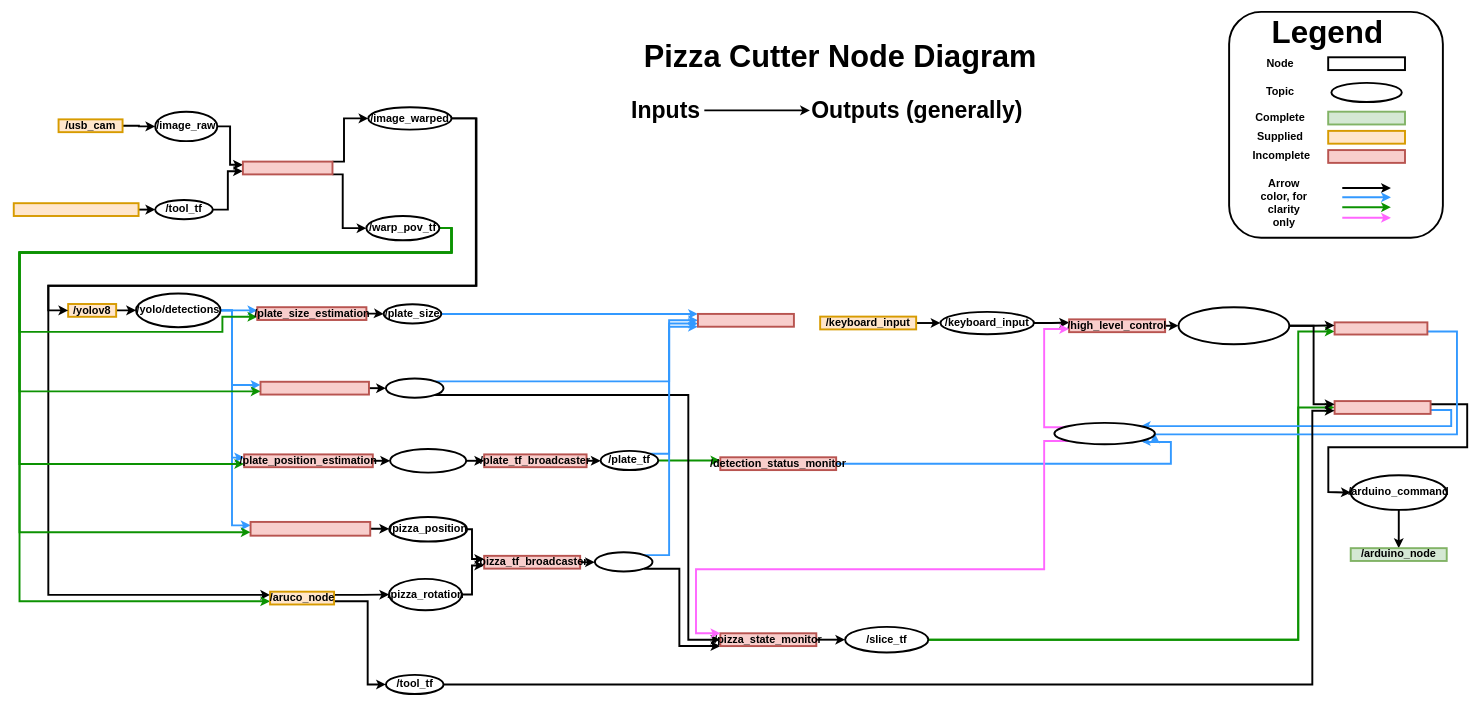
Some shapes in this 1484 by 706 pixel diagram are drawn without their labels. The box of each missing label's shape, as (x1, y1, x2, y2) in pixels:
/image_warper: (242, 160, 333, 175)
/markers: (697, 313, 795, 327)
/moveit_servo: (1333, 321, 1428, 335)
/moveit_trajectory: (1333, 400, 1431, 415)
/operation_command: (1177, 306, 1290, 345)
/operation_status: (1053, 422, 1156, 445)
/pizza_position_estimation: (249, 521, 371, 536)
/pizza_size: (385, 377, 444, 398)
/pizza_size_estimation: (259, 380, 370, 395)
/pizza_tf: (594, 551, 653, 572)
/plate_position: (389, 448, 467, 473)
/robot_state_broadcaster: (12, 202, 139, 217)
